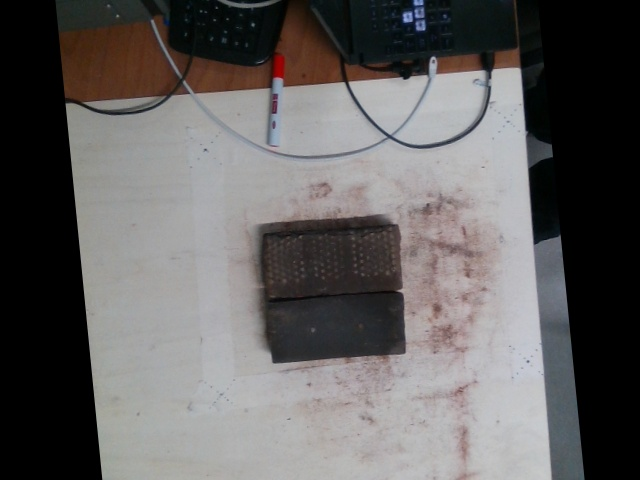brick: (265, 297, 406, 362)
brick-side: (257, 228, 403, 297)
